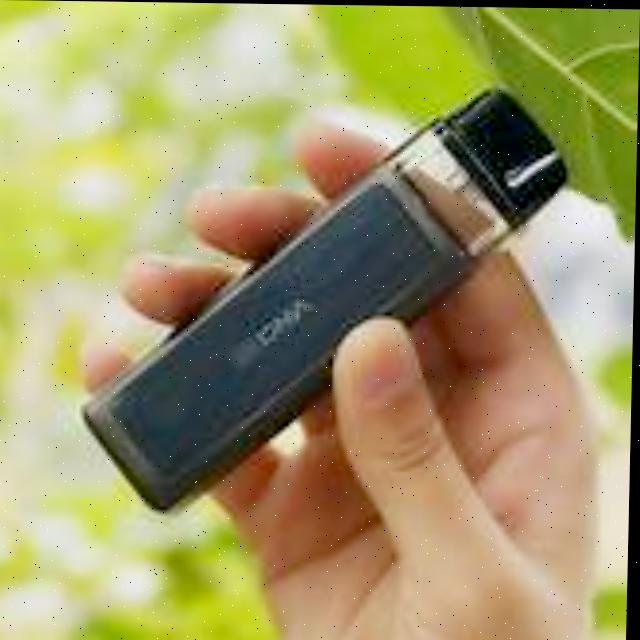vape: (74, 78, 576, 523)
